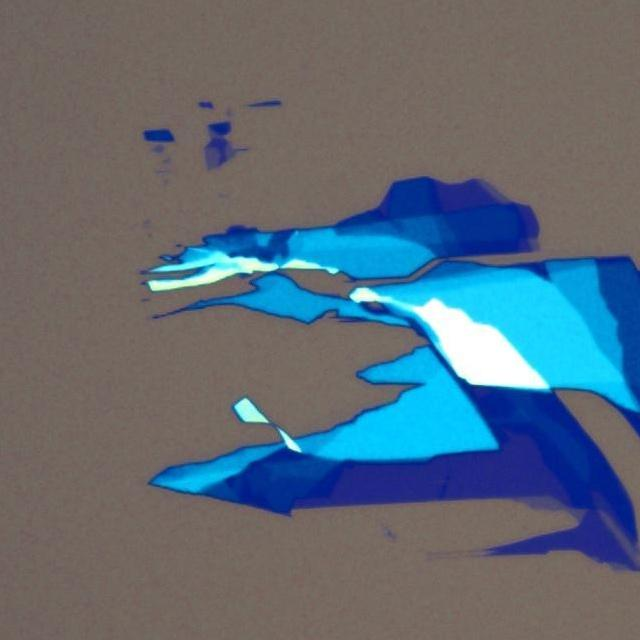monolayer-eWW4: (516, 495, 584, 521), (476, 178, 512, 204), (203, 148, 221, 168), (224, 140, 234, 160), (208, 126, 222, 140), (530, 238, 540, 251)
